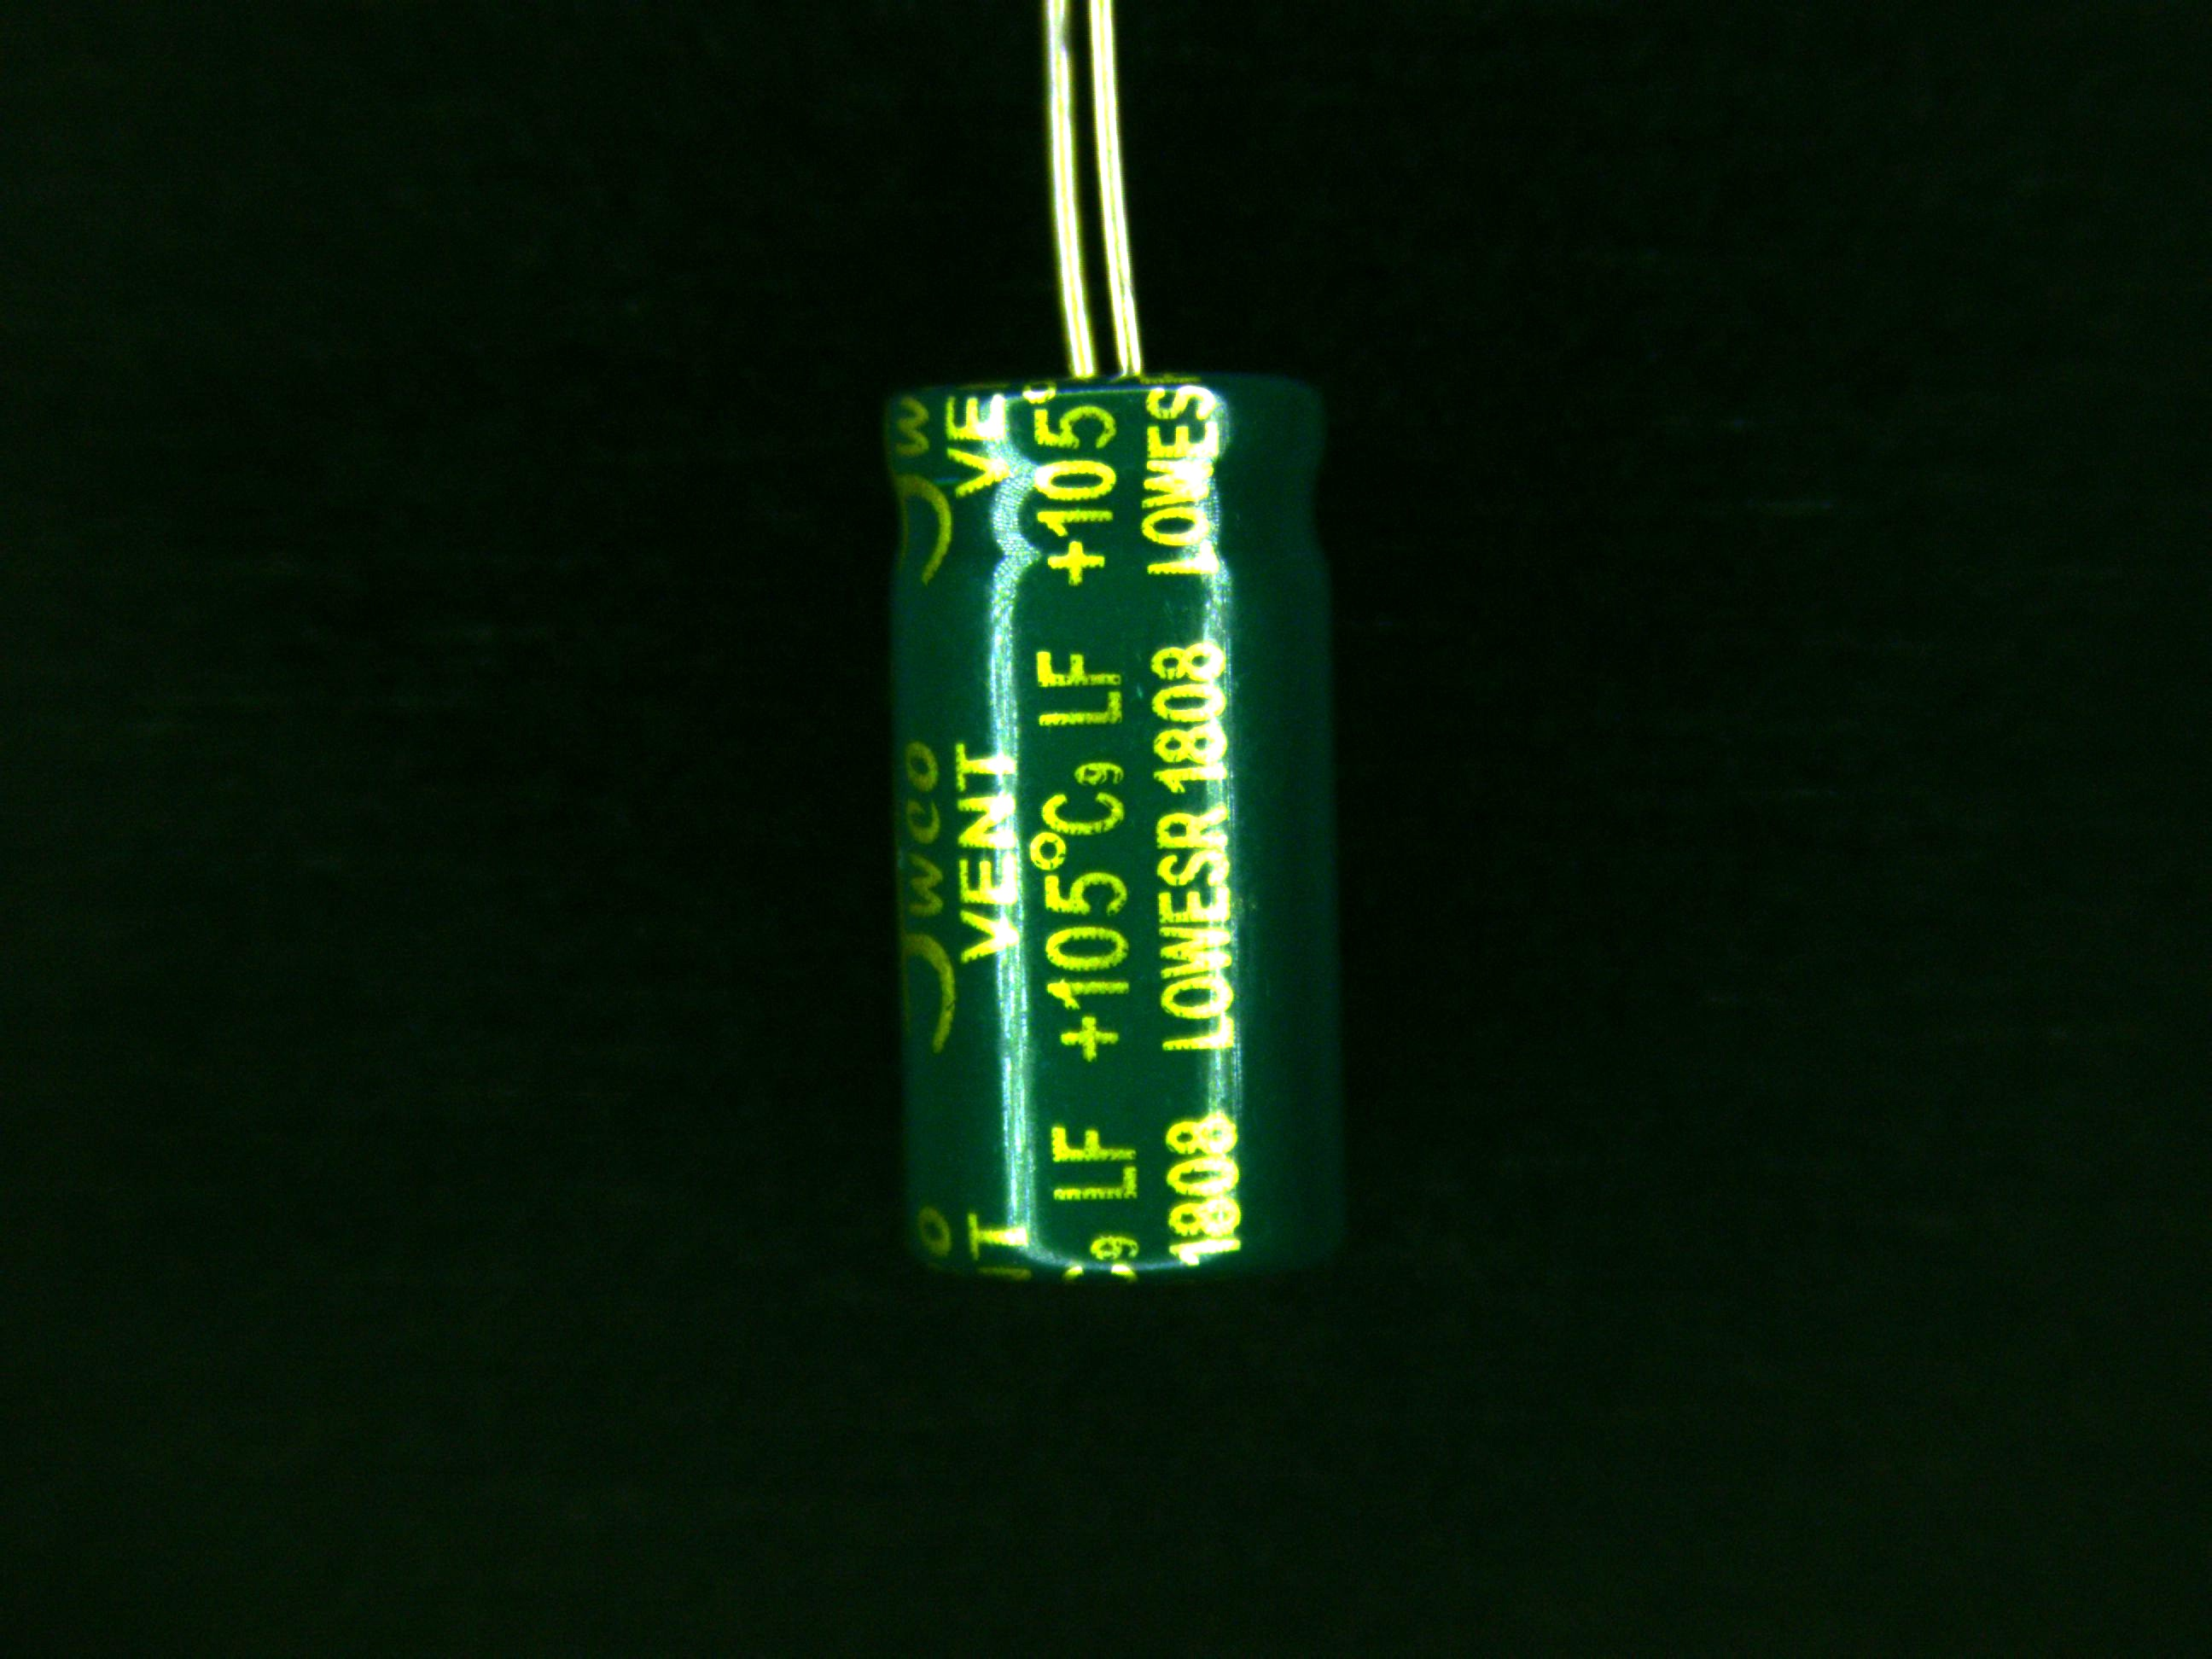c1: (871, 286, 1346, 1277)
